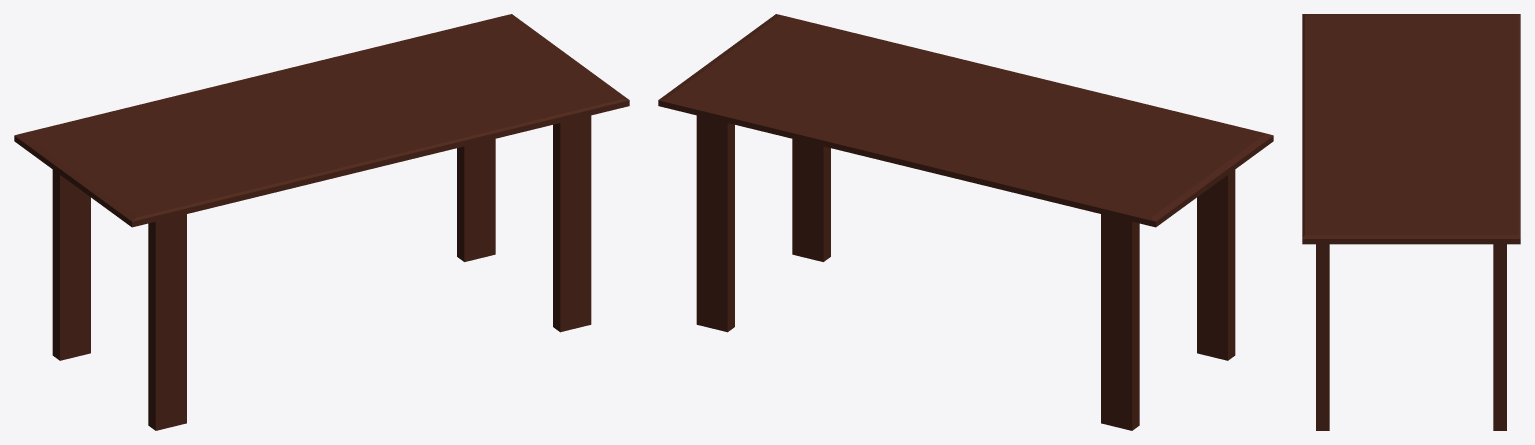
The model's file is table.fbx.
3 views of the same model, side by side, from view 1: azimuth 30°, elevation 25°; view 2: azimuth 150°, elevation 25°; view 3: azimuth 270°, elevation 25° (orthographic). The views are drawn at different scales.
Parts seen in each view (by area): view 1: table; view 2: table; view 3: table.
Part boxes in pixels (<box>): table: <box>14,14,629,430</box>; table: <box>658,14,1273,430</box>; table: <box>1302,14,1520,430</box>.
Size of the model in its own units: 178 by 76.47 by 73.
